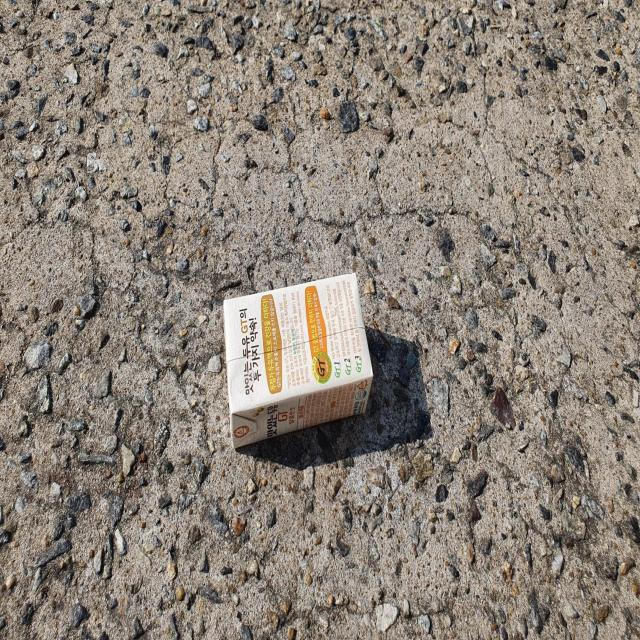paperpack: (223, 272, 373, 448)
